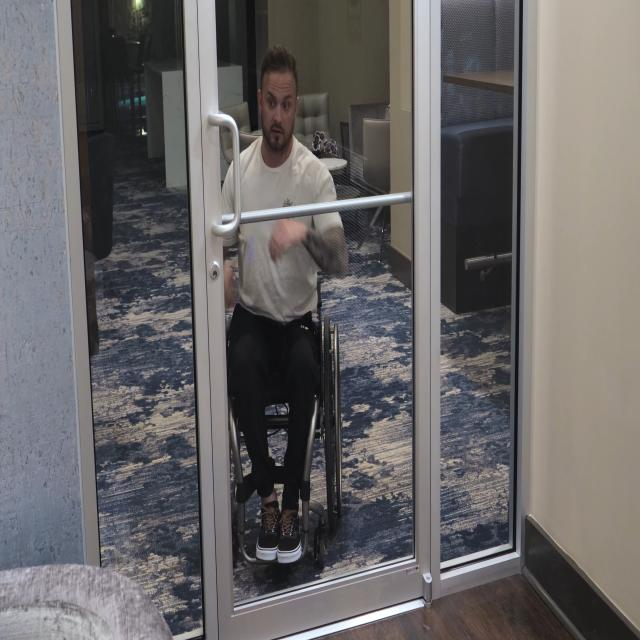wheelchairs: (217, 247, 345, 574)
